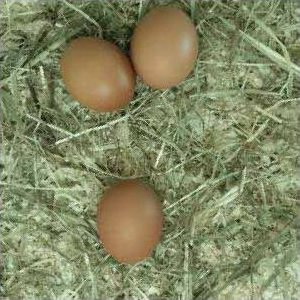egg: (129, 7, 198, 89), (97, 181, 163, 266), (60, 37, 135, 111)
